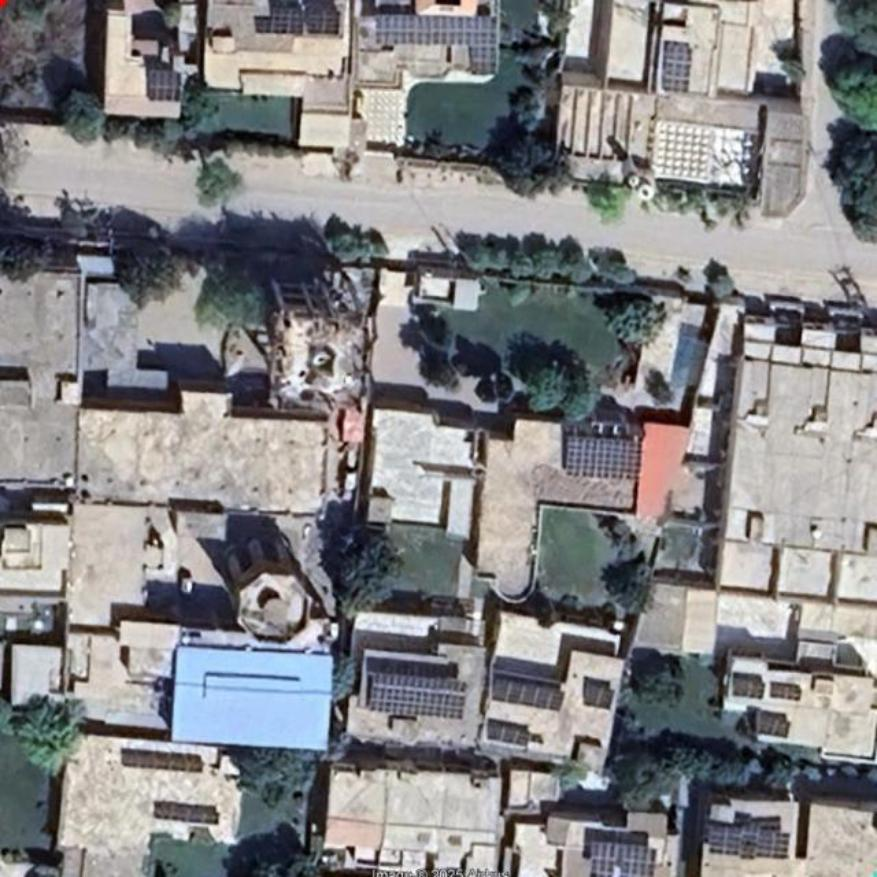Solarpanel: (375, 13, 498, 74), (371, 672, 471, 718), (566, 432, 644, 481), (709, 824, 788, 860), (493, 673, 563, 711), (590, 841, 657, 876), (270, 10, 342, 33), (123, 753, 200, 773), (156, 803, 221, 823), (664, 41, 689, 92), (489, 721, 532, 748), (146, 69, 182, 100), (757, 716, 791, 737), (733, 679, 765, 699), (586, 688, 615, 708), (767, 685, 799, 701)
